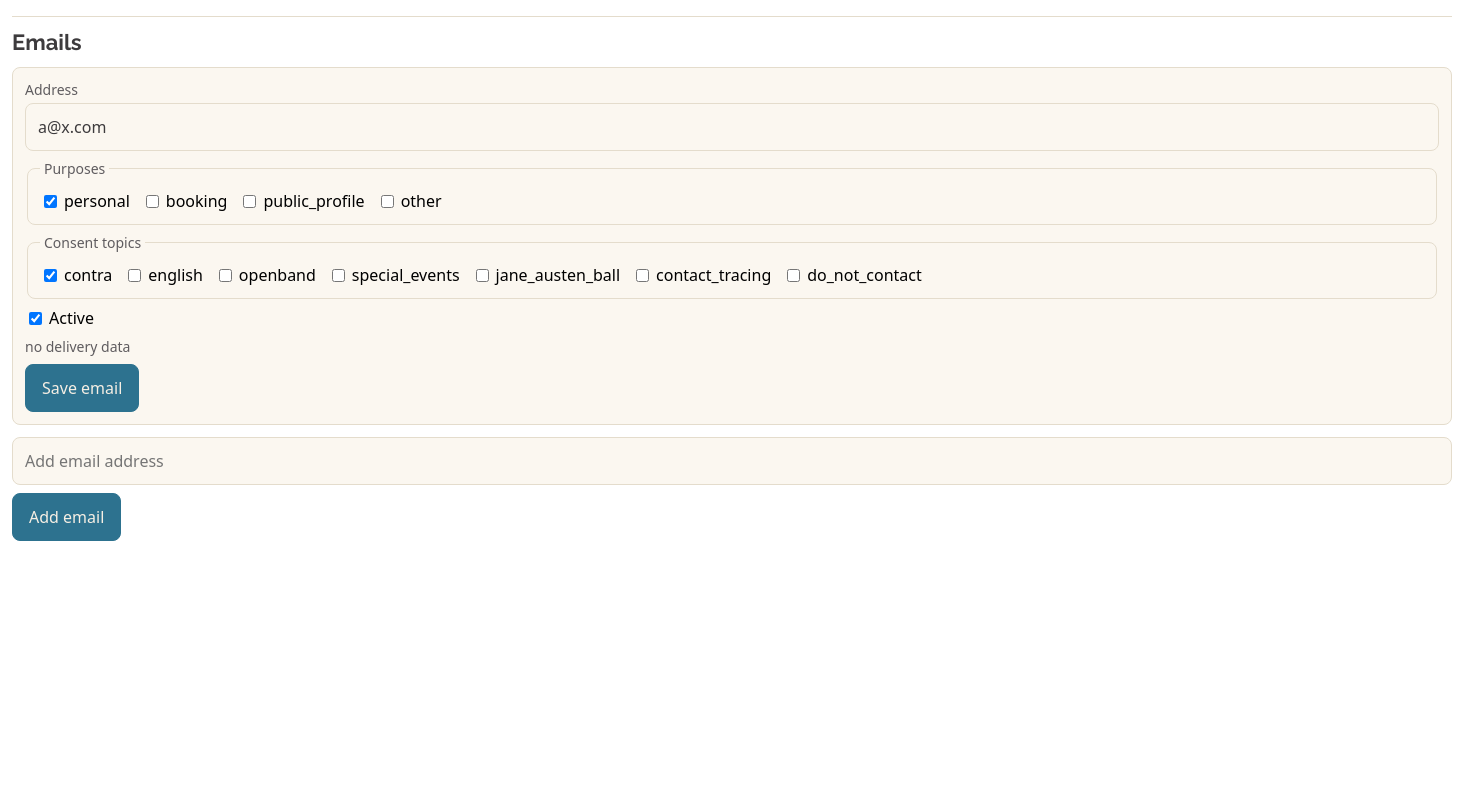
Test case: EmailEditor — collision offers link as shared (feature 067) › a colliding ADD surfaces the named collision instead of failing silently (FR-005)
Type "shared@jones.com" into the field with placeholder "Add email address" at (732, 461), box [12,437,1452,485]
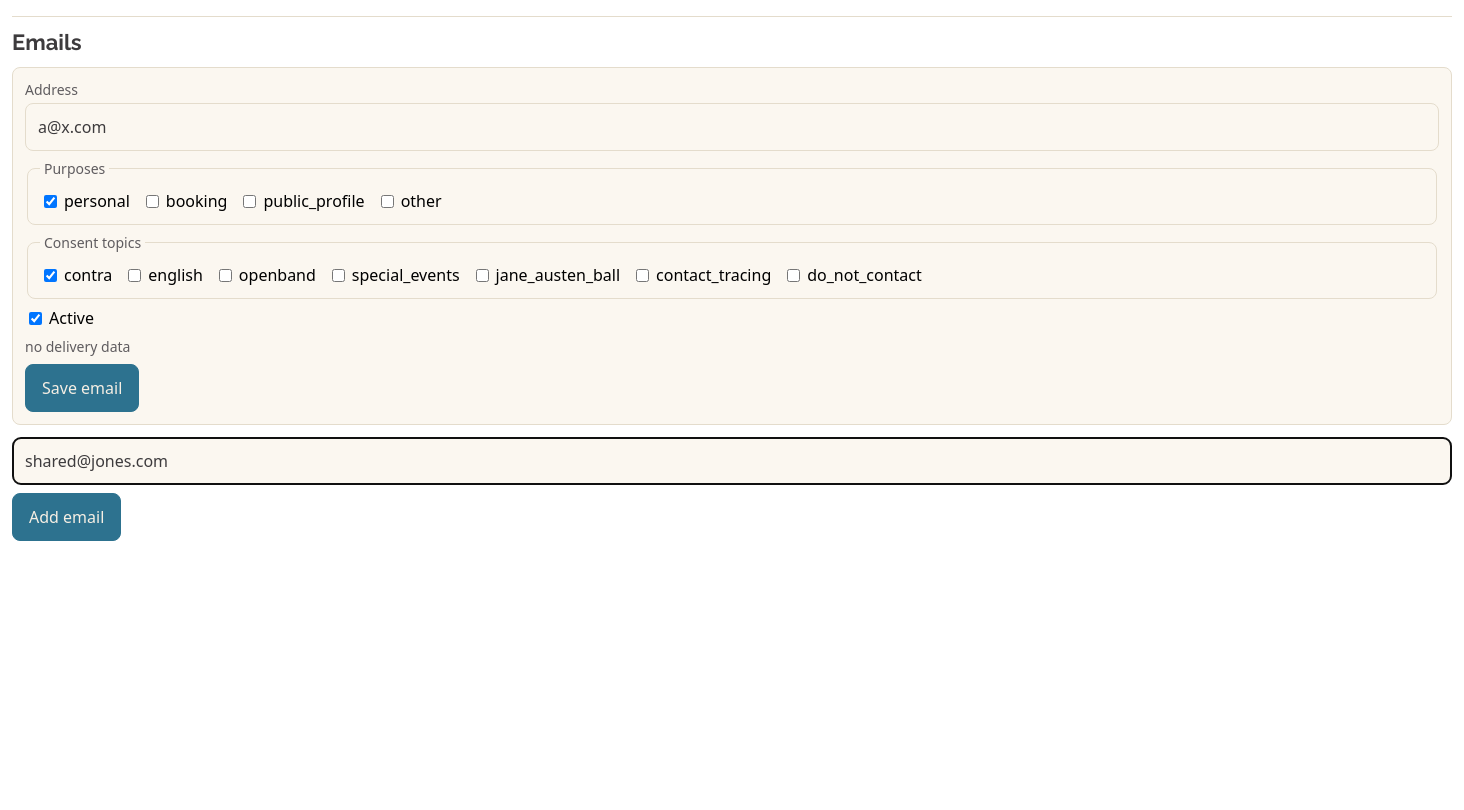
Click the button "Add email" at (67, 517), box [12,493,121,541]
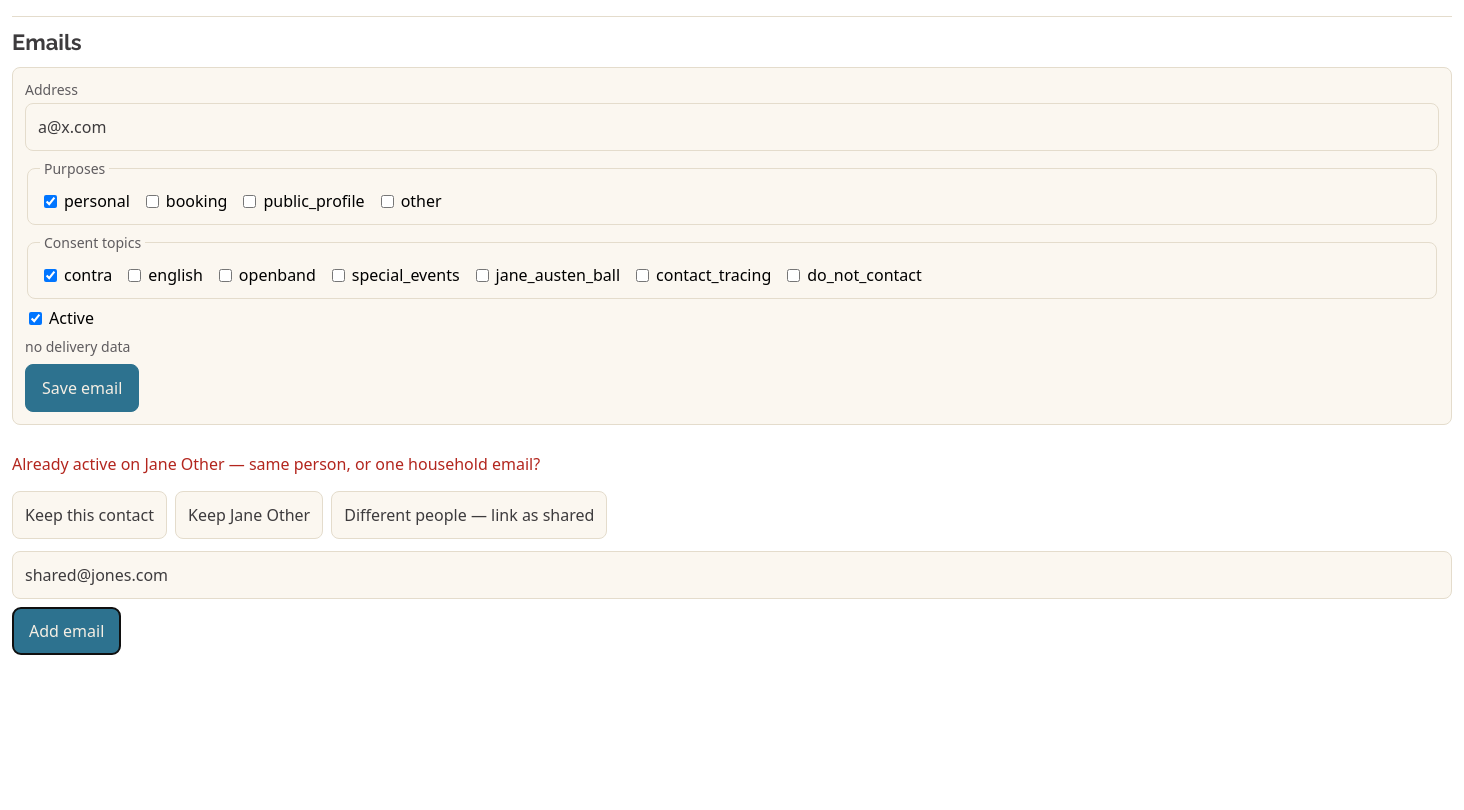
Now the text "Already active on Jane Other" is shown, box [12,453,540,475]
